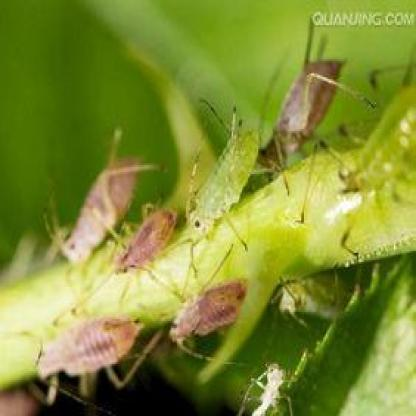aphid: (321, 56, 416, 244), (250, 40, 360, 190), (169, 98, 268, 248), (23, 306, 149, 406), (39, 146, 144, 266), (160, 259, 254, 360), (270, 253, 370, 332), (105, 196, 184, 283), (236, 344, 306, 416)
